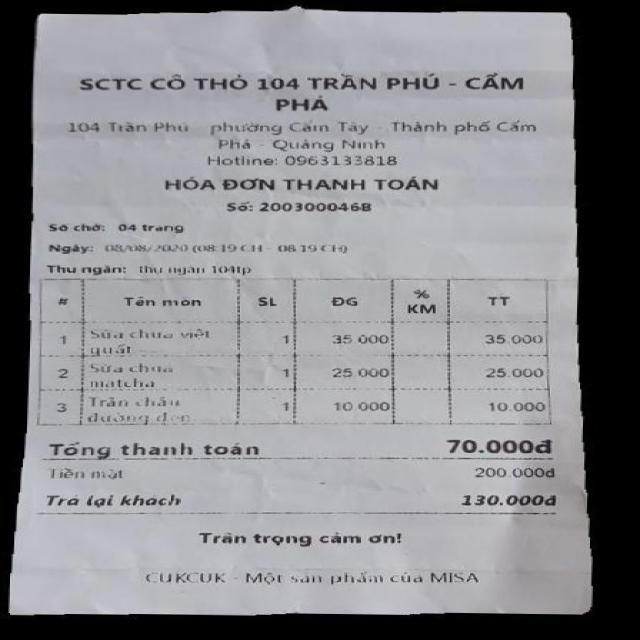Date: (102, 241, 188, 253)
Store_Name: (65, 64, 535, 112)
amount_number: (441, 438, 536, 456)
label_total: (38, 437, 259, 459)
